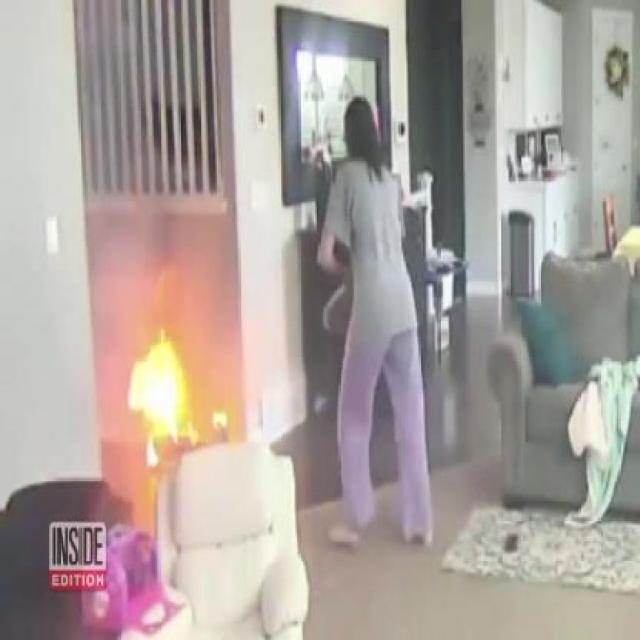fire: (127, 294, 230, 452)
